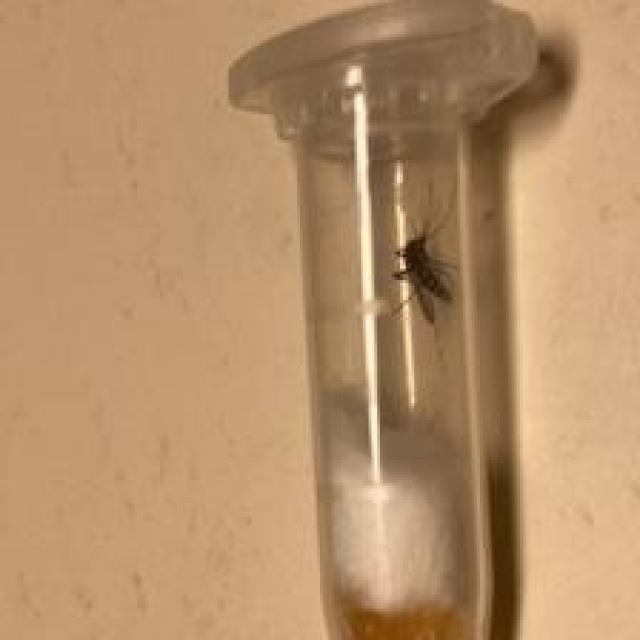Aedes albopictus: (390, 219, 459, 324)
